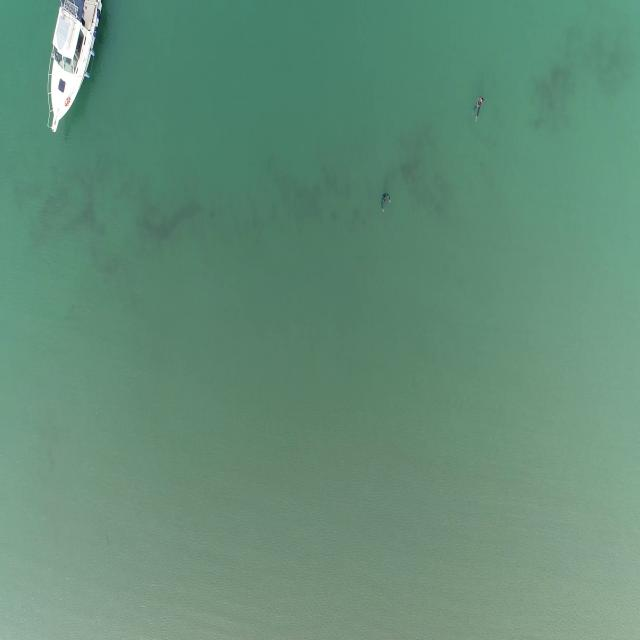boat: (42, 0, 102, 136)
person: (473, 98, 485, 126), (378, 194, 391, 216)
